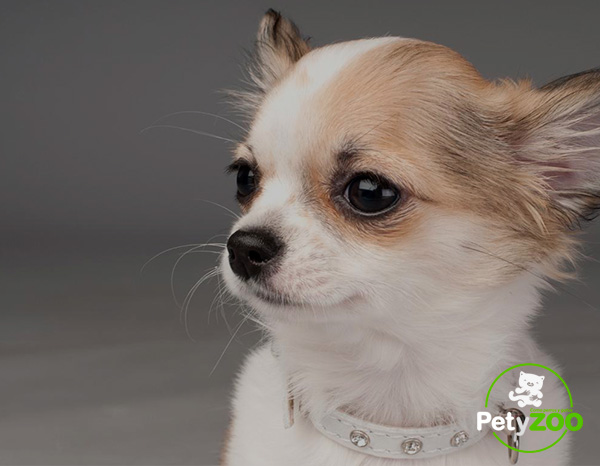chihuahua: (162, 3, 600, 350)
